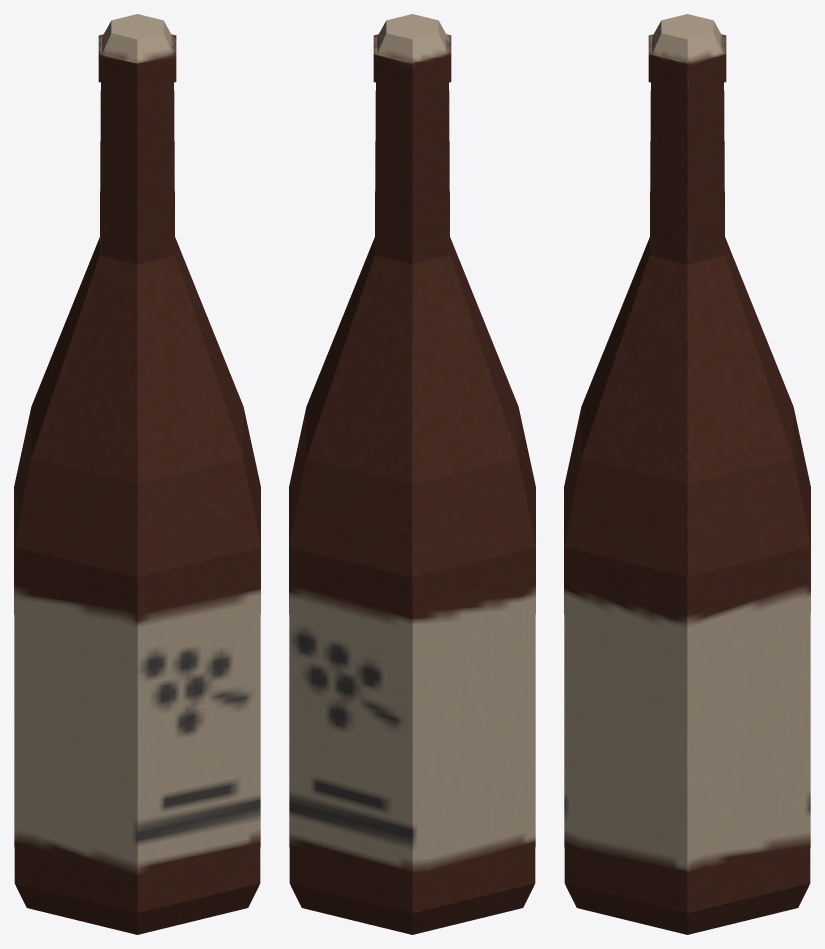
Rendered from SM_Food_Bottle_05.fbx.
3 views of the same model, side by side, from view 1: azimuth 30°, elevation 25°; view 2: azimuth 150°, elevation 25°; view 3: azimuth 270°, elevation 25° (orthographic).
Visible parts, largest first — view 1: SM_Food_Bottle_05; view 2: SM_Food_Bottle_05; view 3: SM_Food_Bottle_05.
Part boxes in pixels (bbox=[...]): SM_Food_Bottle_05: bbox=[14, 14, 260, 934]; SM_Food_Bottle_05: bbox=[289, 14, 535, 934]; SM_Food_Bottle_05: bbox=[564, 14, 810, 934].
Size of the model in its own units: 0.0909 by 0.3006 by 0.0787.
